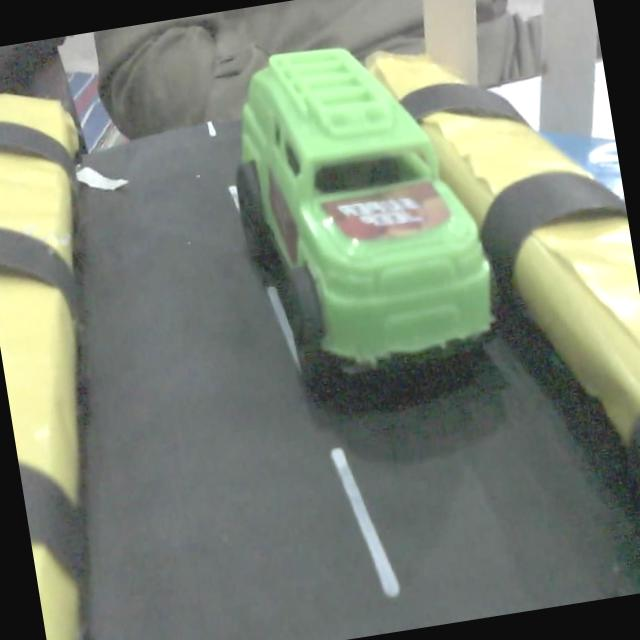OneCar: (236, 49, 492, 378)
